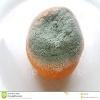Orange Rotten: (23, 5, 86, 83)
